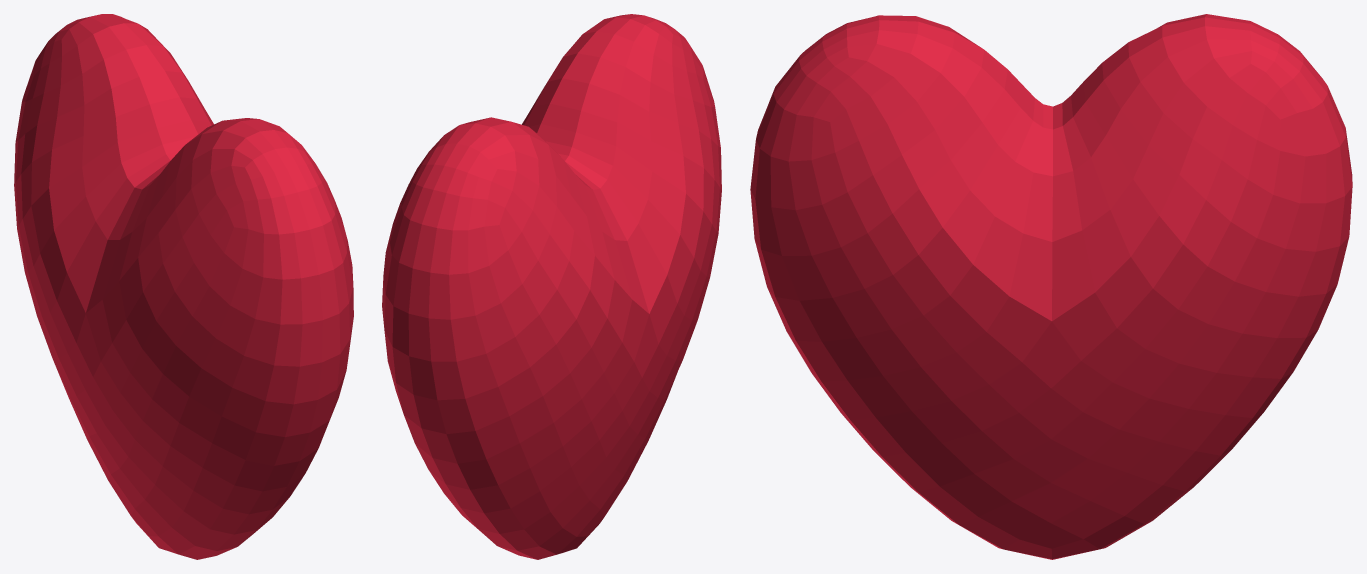
Rendered from hearth.glb.
3 renders of one model, left to right at view 1: azimuth 30°, elevation 25°; view 2: azimuth 150°, elevation 25°; view 3: azimuth 270°, elevation 25°, orthographic. The views are drawn at different scales.
Parts seen in each view (by area): view 1: Retopo_Cube; view 2: Retopo_Cube; view 3: Retopo_Cube.
Boxes of the visible parts, x1,y1,x2,y2 form: Retopo_Cube: (14,14,353,559); Retopo_Cube: (382,14,721,559); Retopo_Cube: (750,14,1352,559).
Size of the model in its own units: 0.3152 by 0.7173 by 0.733.
